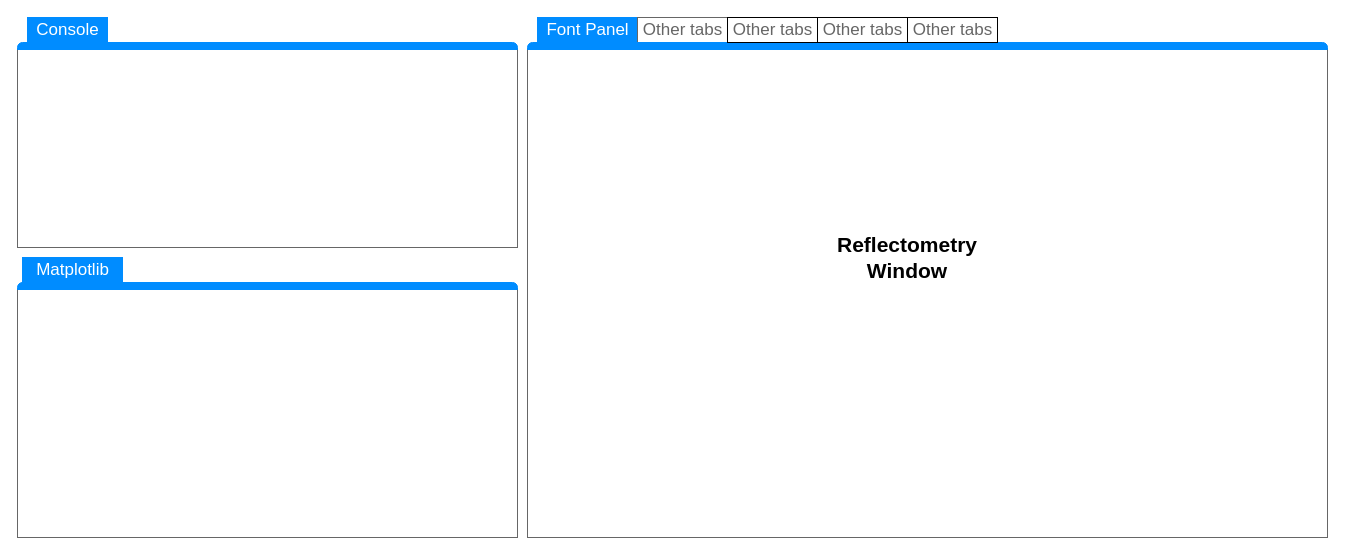
The diagram is 1345 pixels wide and 555 high, and some of its shapes have lost their labels. The centre of each missing label's shape, as x and y in pixels:
Plotting Window: point 267,397
Scripting Window: point 267,132
